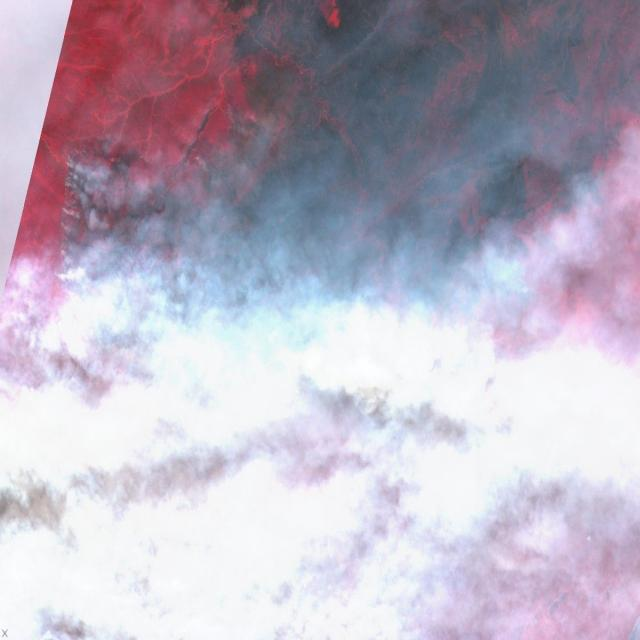fire: (55, 137, 372, 419)
